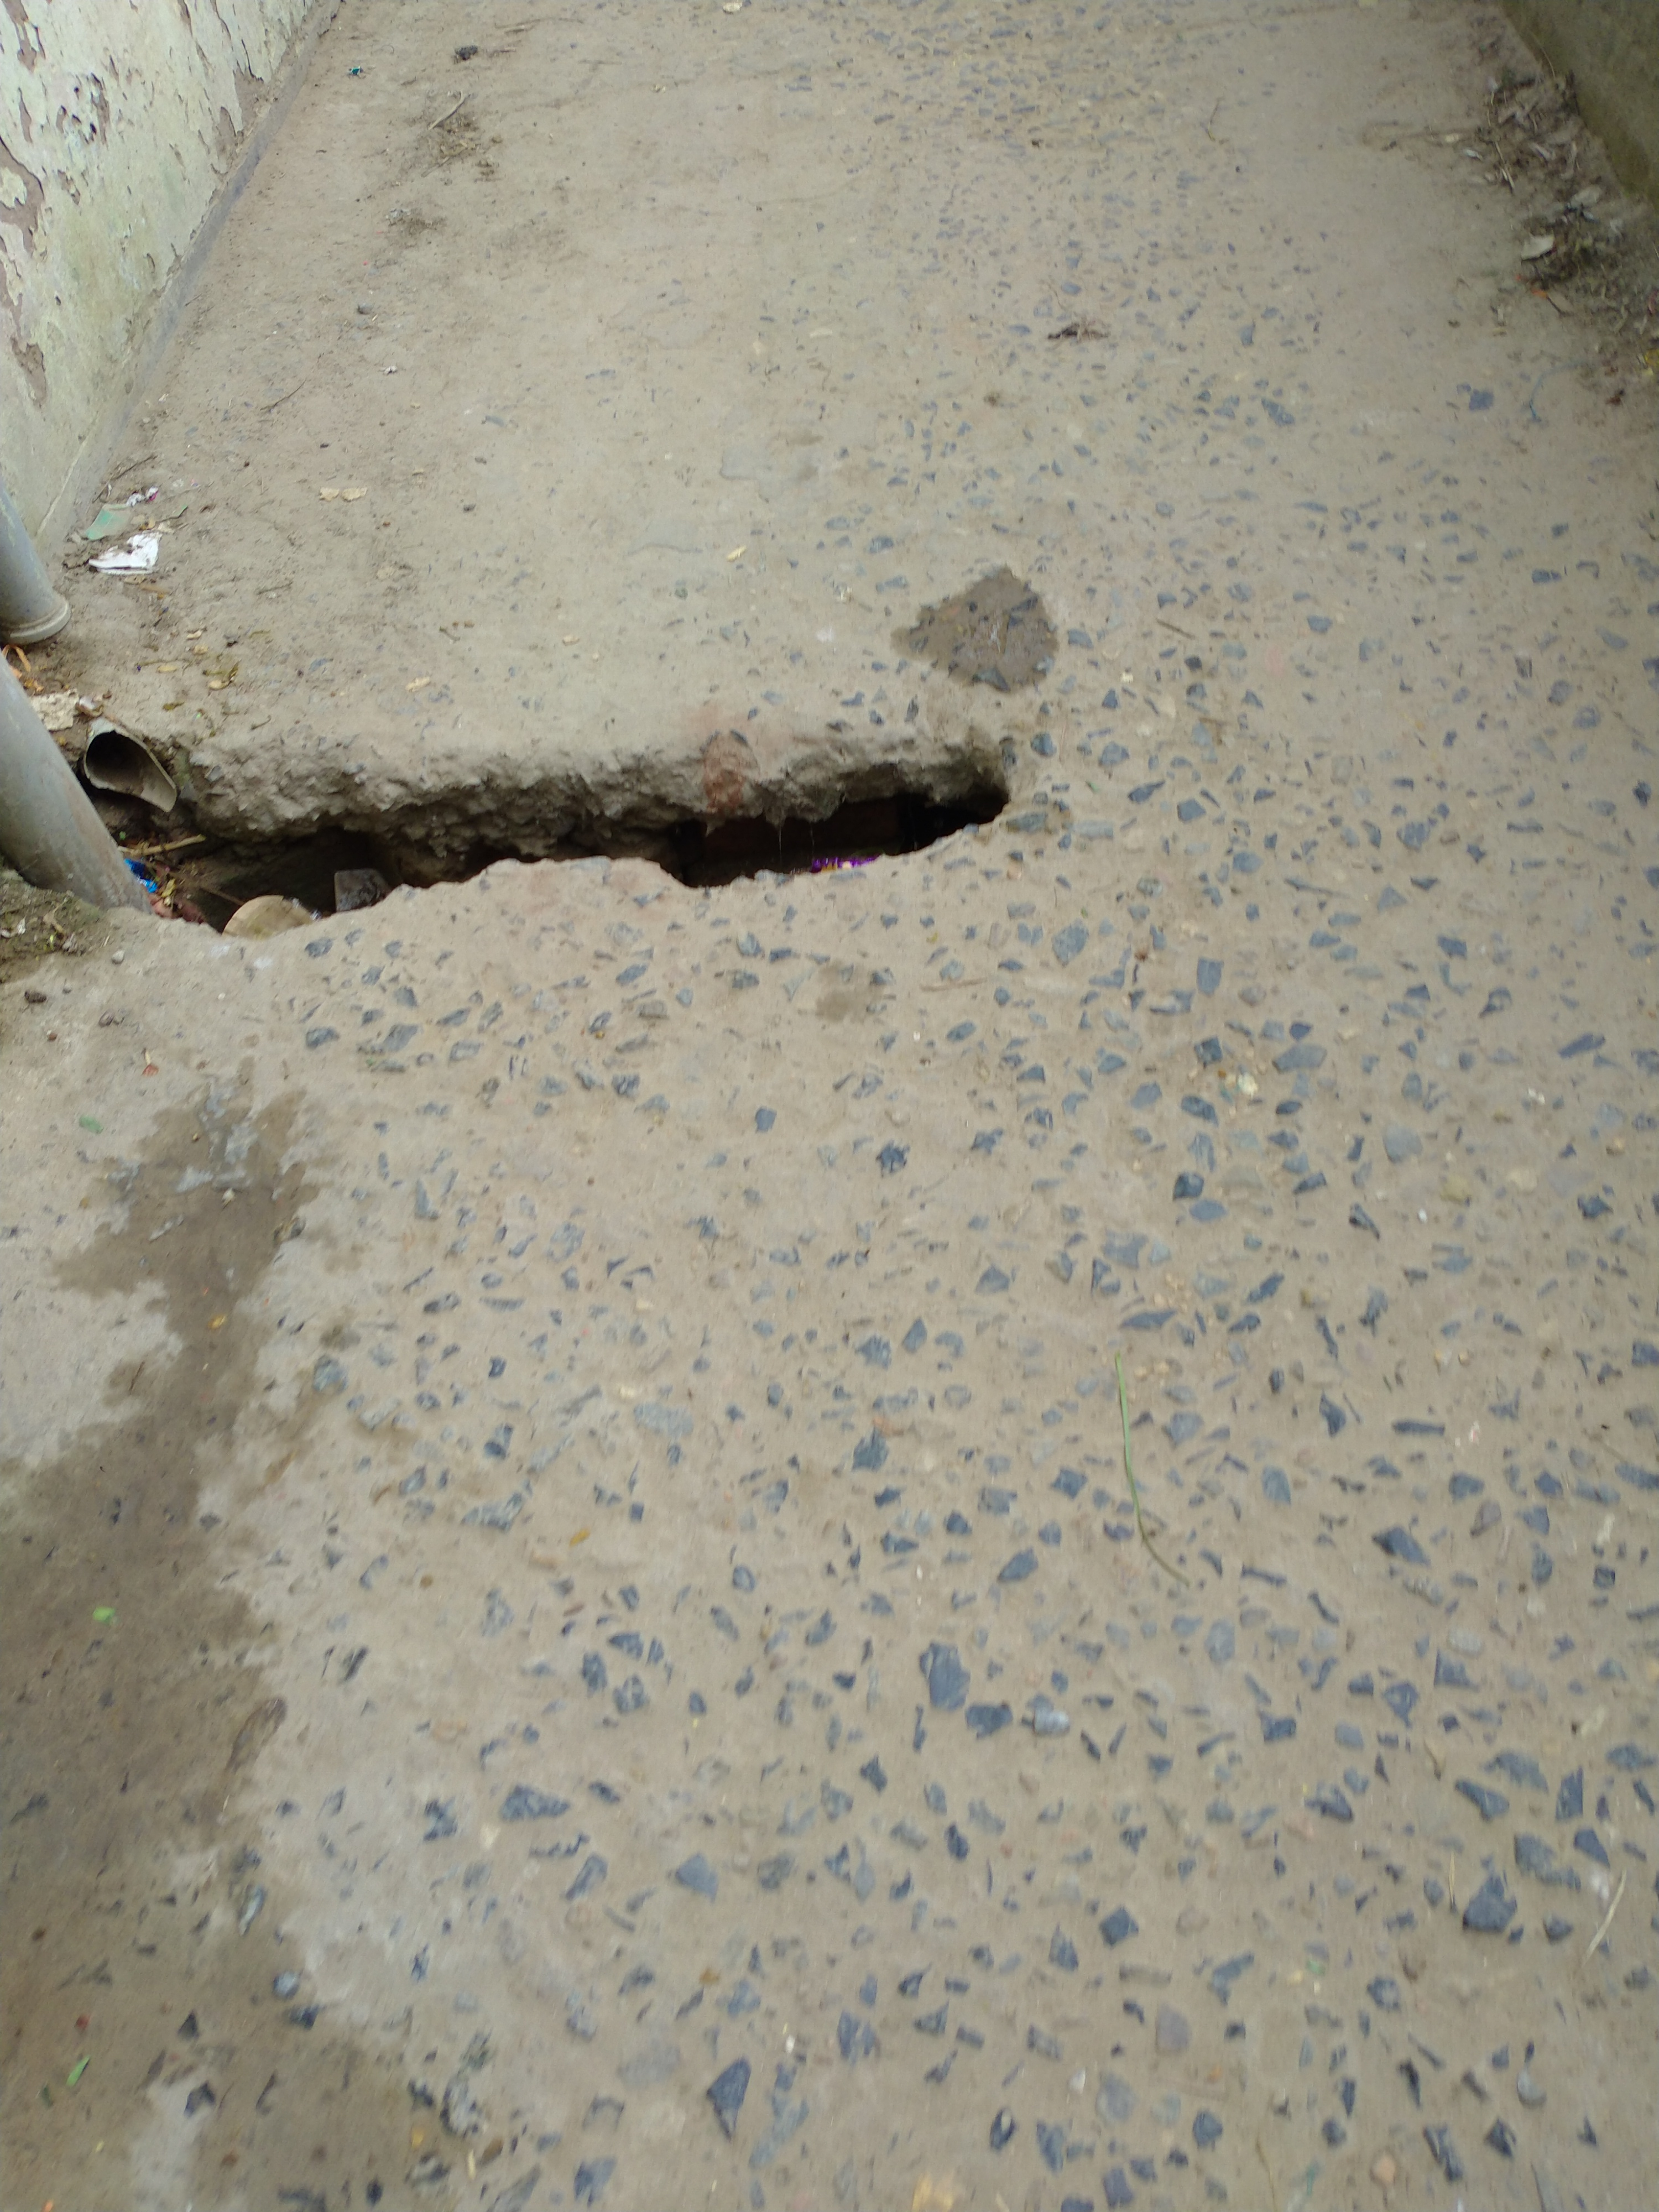potholes: (63, 725, 1025, 956)
